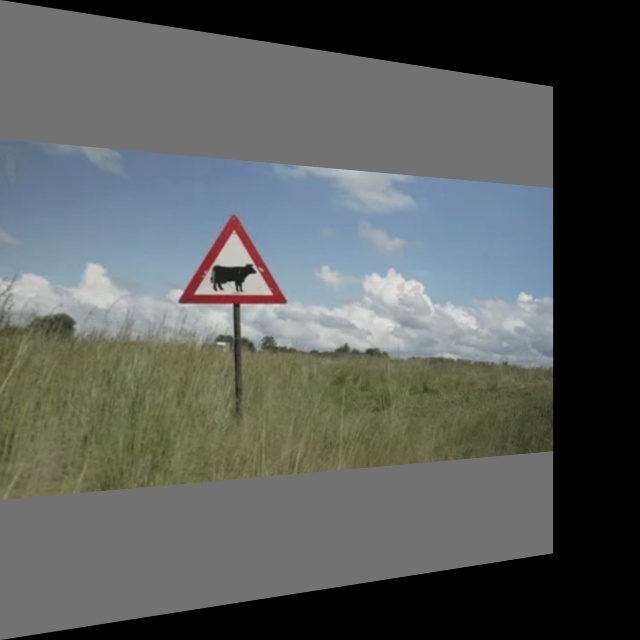Cattle: (184, 214, 284, 307)
